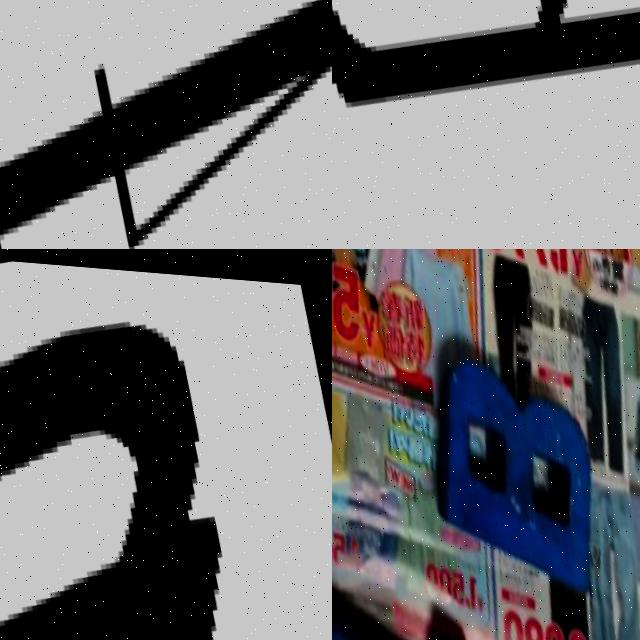B: (411, 325, 620, 603), (332, 0, 640, 106)
N: (0, 274, 297, 640)
